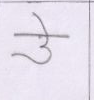e_matra: (32, 12, 53, 33)
